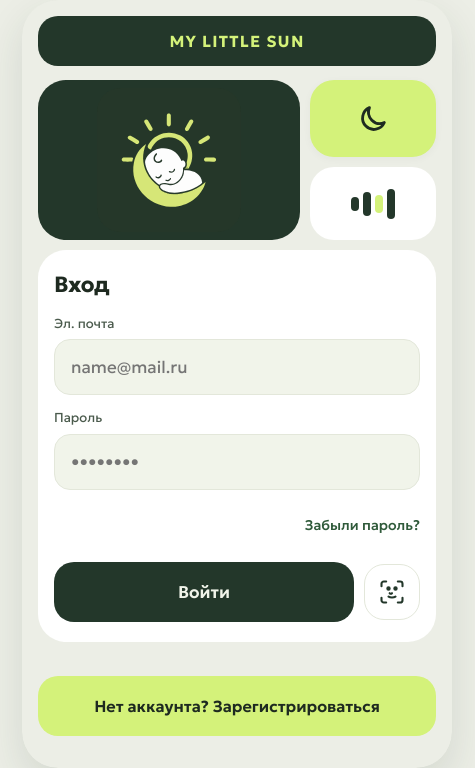
Test: LoginPage Component › clicking biometric button without saved credentials displays error prompting to enable in Settings
The image size is (475, 768).
Click the button with test id "biometric-login-btn" at (392, 592), box [364,564,420,620]
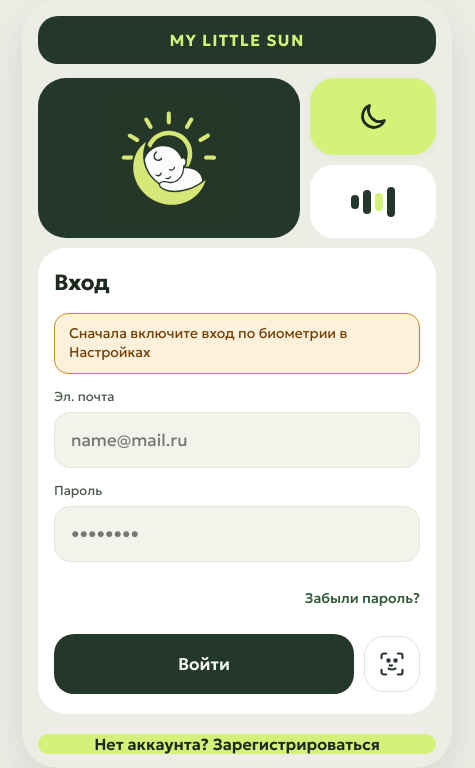
Expected: the text with test id "login-error-banner" reads "Сначала включите вход по биометрии в Настройках", [69,324,348,361]
